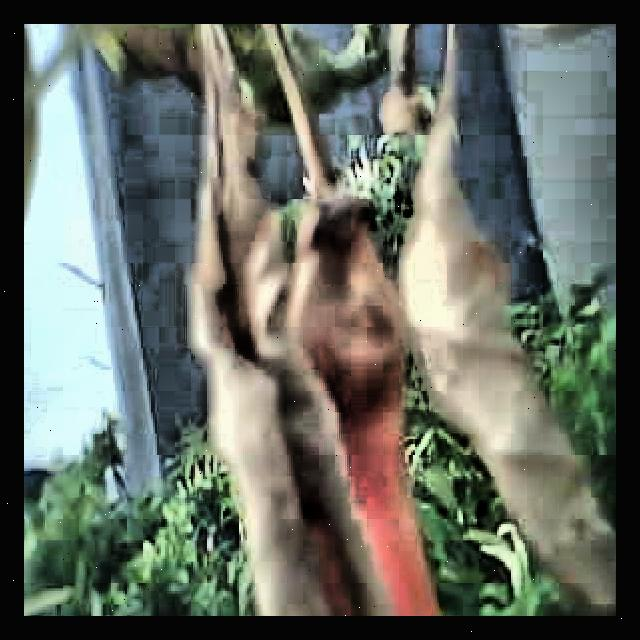Cabai: (256, 194, 445, 616)
